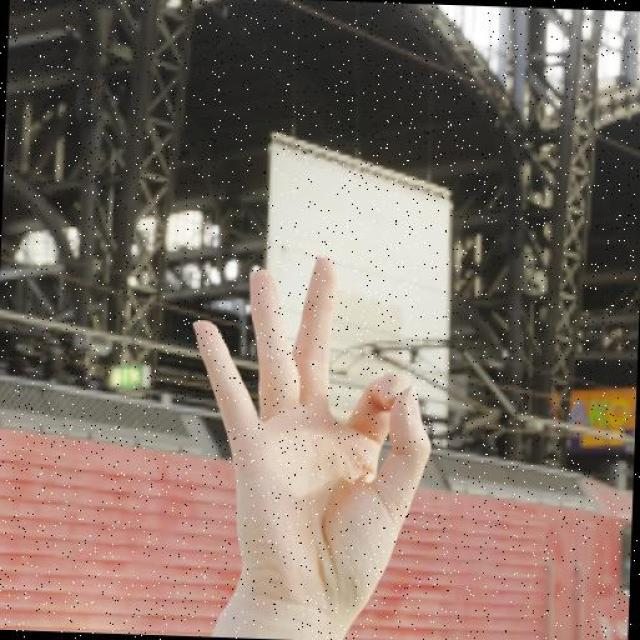F: (181, 248, 442, 612)
